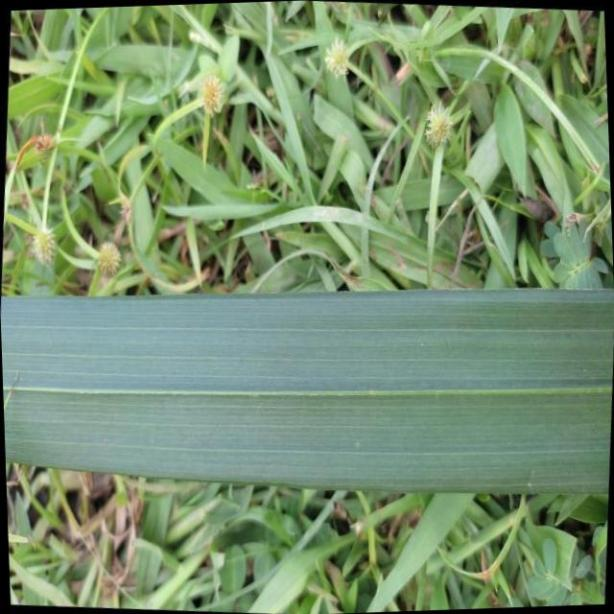Healthy: (1, 289, 614, 498)
